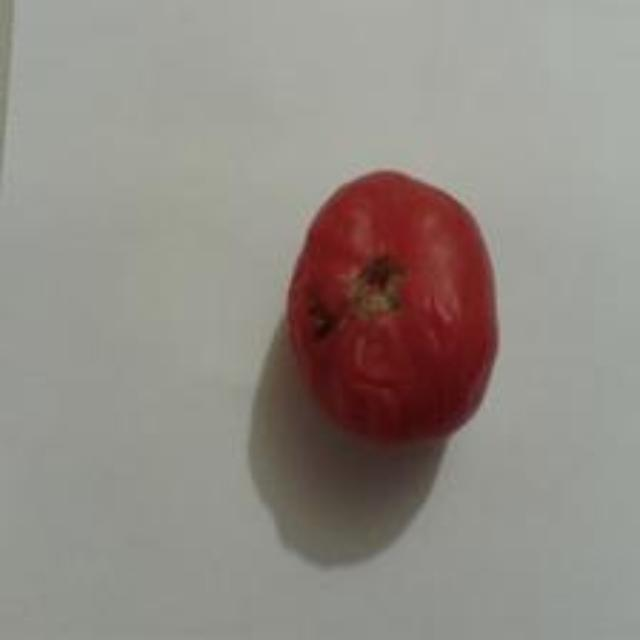defect: (283, 168, 503, 444)
